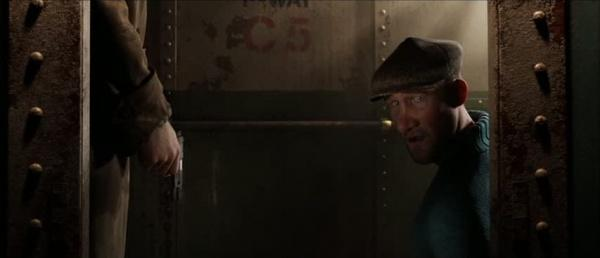Gun: (167, 133, 185, 203)
